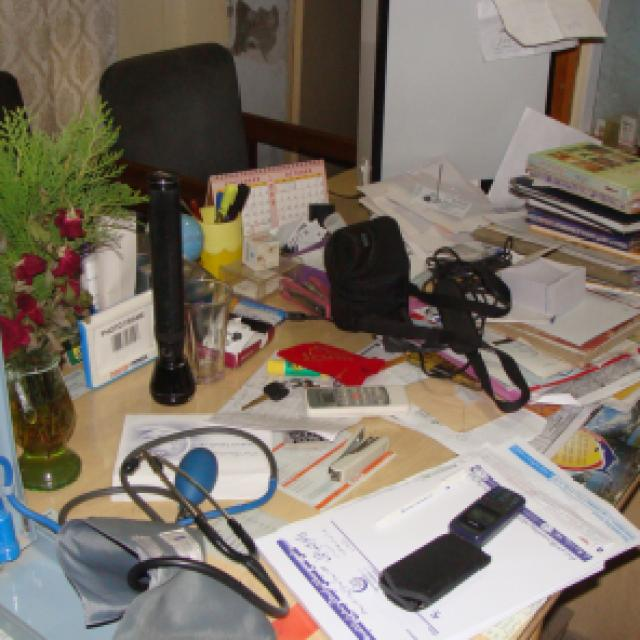scattered-items: (240, 132, 640, 426), (9, 419, 333, 640)
